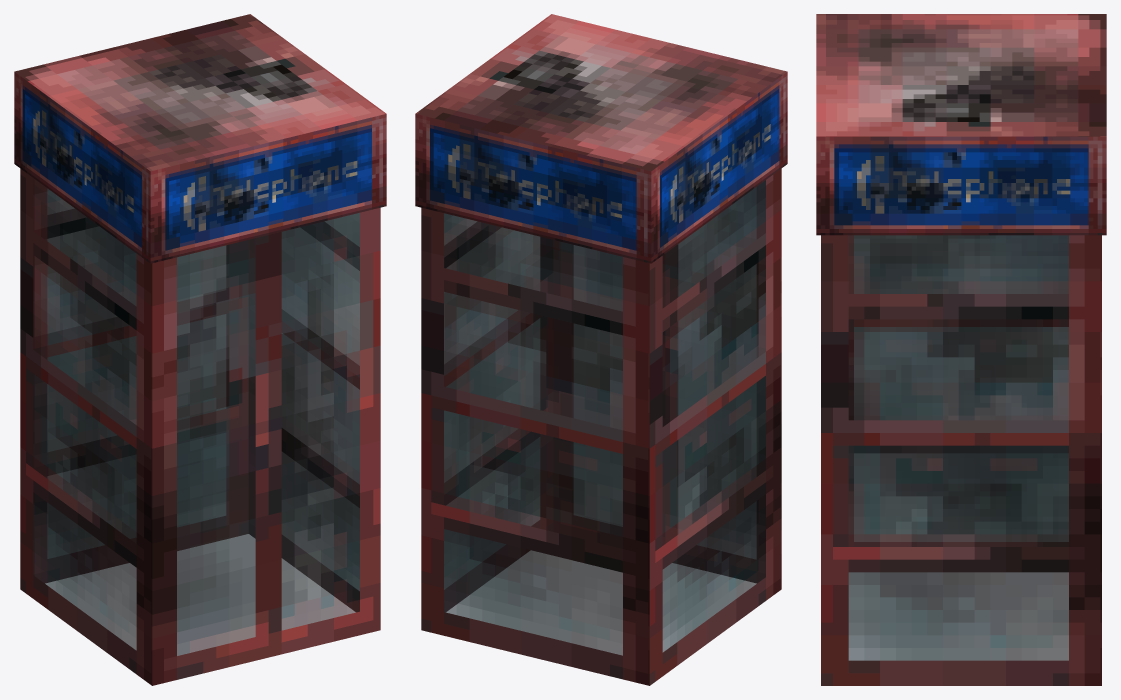
The model's file is Environment - Prop - Phone Booth - Damaged - PEPhonBoot_d.glb.
3 renders of one model, left to right at view 1: azimuth 30°, elevation 25°; view 2: azimuth 150°, elevation 25°; view 3: azimuth 270°, elevation 25°, orthographic. The views are drawn at different scales.
Parts seen in each view (by area): view 1: PEPHONBOOT_D; view 2: PEPHONBOOT_D; view 3: PEPHONBOOT_D.
Boxes of the visible parts, x1=… form: PEPHONBOOT_D: x1=14, y1=14, x2=386, y2=685; PEPHONBOOT_D: x1=415, y1=14, x2=787, y2=685; PEPHONBOOT_D: x1=816, y1=14, x2=1106, y2=685.
Size of the model in its own units: 8.25 by 17.27 by 8.25.
Materials: 1 (1 with a texture image).
